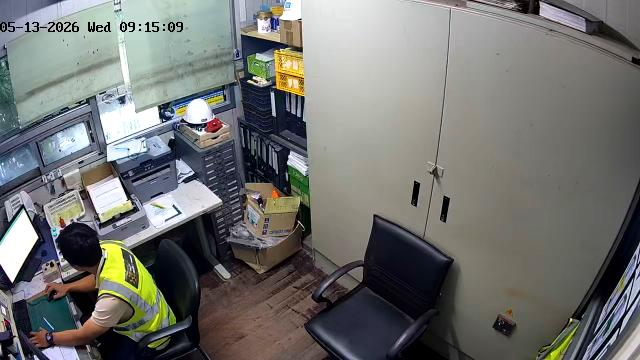Head: (57, 223, 101, 274)
People: (31, 223, 176, 359)
